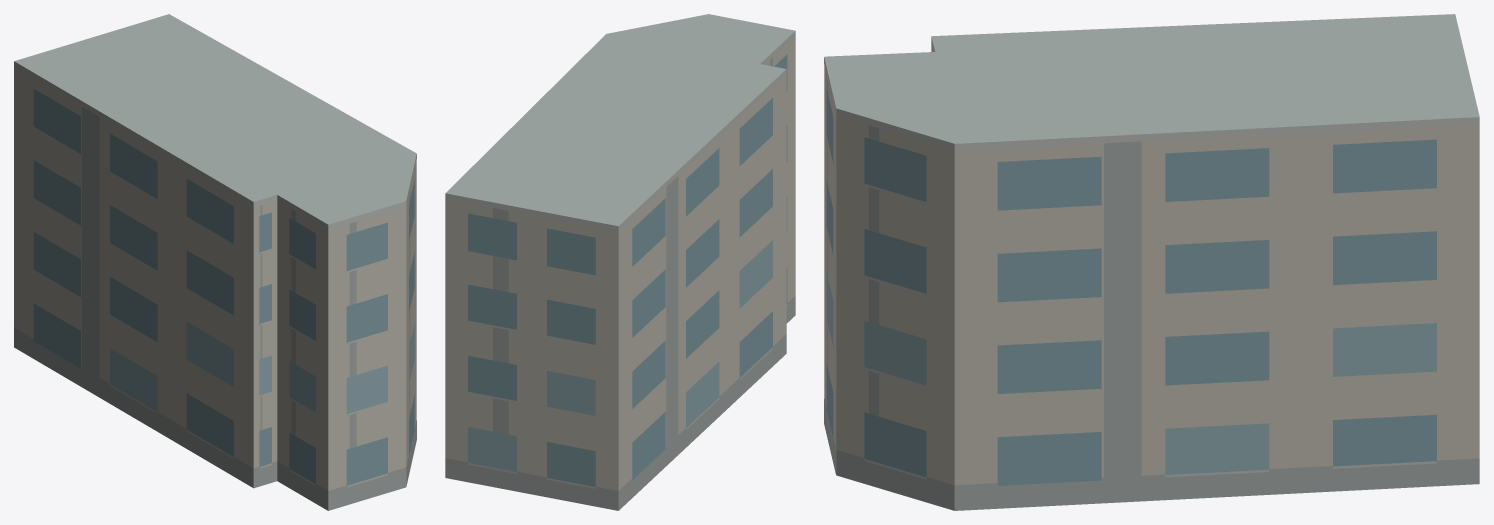
Rendered from residential-0464f894-b7ed-4dfa-932f-7006774be99b.glb.
3 views of the same model, side by side, from view 1: azimuth 30°, elevation 25°; view 2: azimuth 150°, elevation 25°; view 3: azimuth 270°, elevation 25° (orthographic). The views are drawn at different scales.
Visible parts, largest first — view 1: residential-0464f894-b7ed-4dfa-932f-7006774be99b.tmp; view 2: residential-0464f894-b7ed-4dfa-932f-7006774be99b.tmp; view 3: residential-0464f894-b7ed-4dfa-932f-7006774be99b.tmp.
Boxes of the visible parts, x1,y1,x2,y2 form: residential-0464f894-b7ed-4dfa-932f-7006774be99b.tmp: (14,14,416,510); residential-0464f894-b7ed-4dfa-932f-7006774be99b.tmp: (445,14,795,510); residential-0464f894-b7ed-4dfa-932f-7006774be99b.tmp: (824,14,1479,510).
Size of the model in its own units: 9.65 by 12.7 by 20.57.
